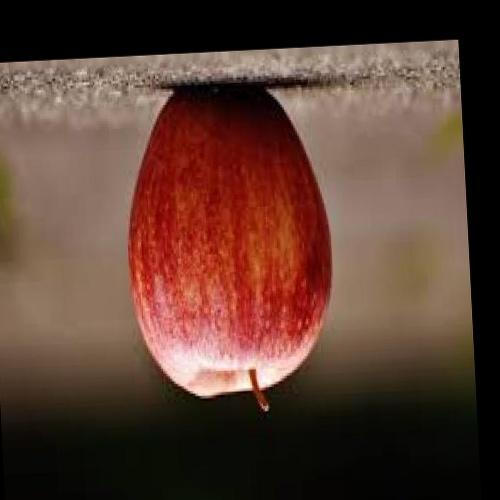red apple: (126, 85, 332, 403)
